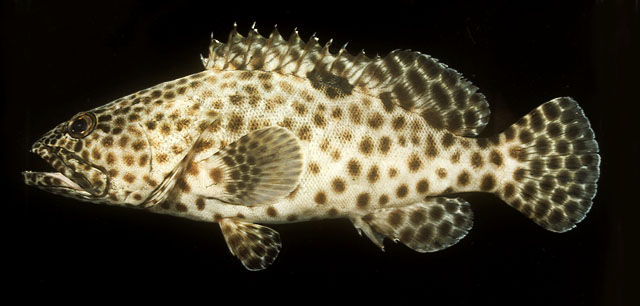fish: (21, 22, 602, 272)
